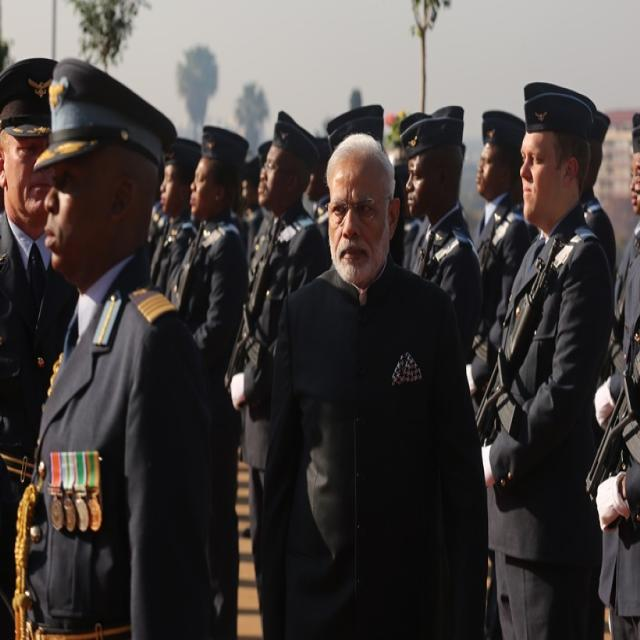body: (10, 56, 218, 638), (258, 129, 492, 639), (0, 53, 143, 639), (136, 102, 567, 293), (479, 78, 617, 633), (221, 106, 332, 640), (171, 121, 249, 640), (595, 101, 638, 639), (397, 113, 484, 374), (464, 108, 536, 420), (143, 133, 203, 300)
